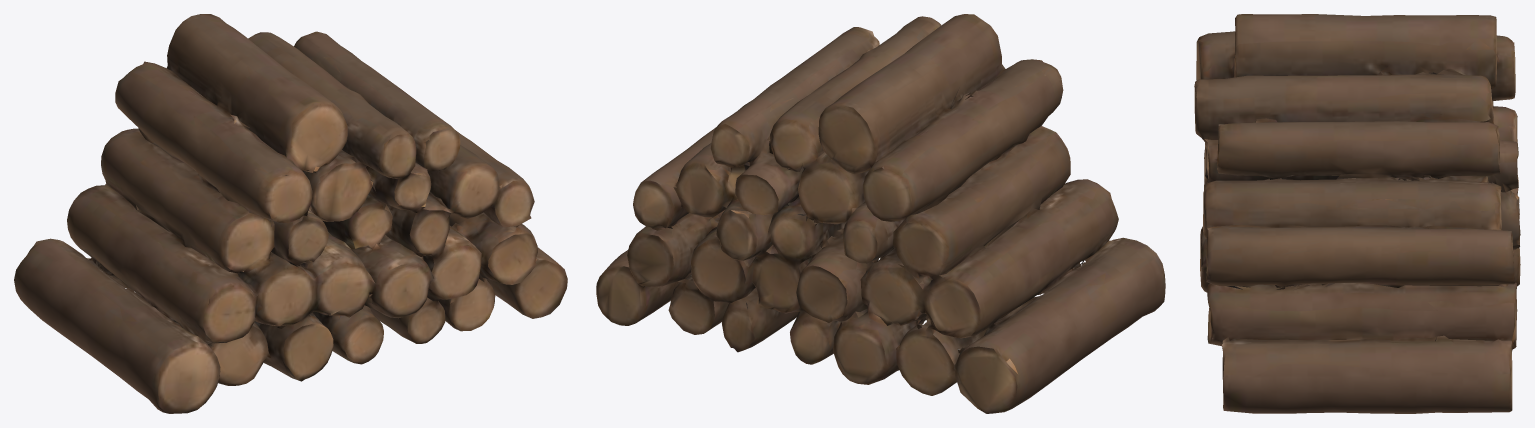
The model's file is LogStack.glb.
3 renders of one model, left to right at view 1: azimuth 30°, elevation 25°; view 2: azimuth 150°, elevation 25°; view 3: azimuth 270°, elevation 25°, orthographic. The views are drawn at different scales.
Parts seen in each view (by area): view 1: LogStack; view 2: LogStack; view 3: LogStack.
Boxes of the visible parts, x1,y1,x2,y2 form: LogStack: (14, 14, 567, 413); LogStack: (596, 14, 1165, 413); LogStack: (1194, 14, 1520, 413).
Size of the model in its own units: 2.4 by 1.45 by 1.52.
1 material, 1 textured.
